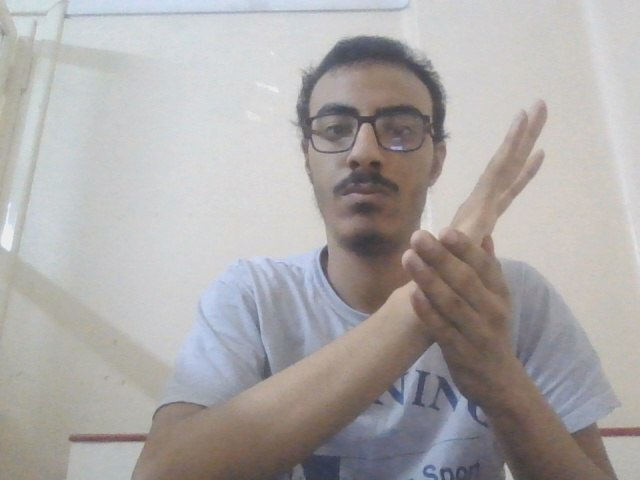Movie: (397, 94, 575, 384)
